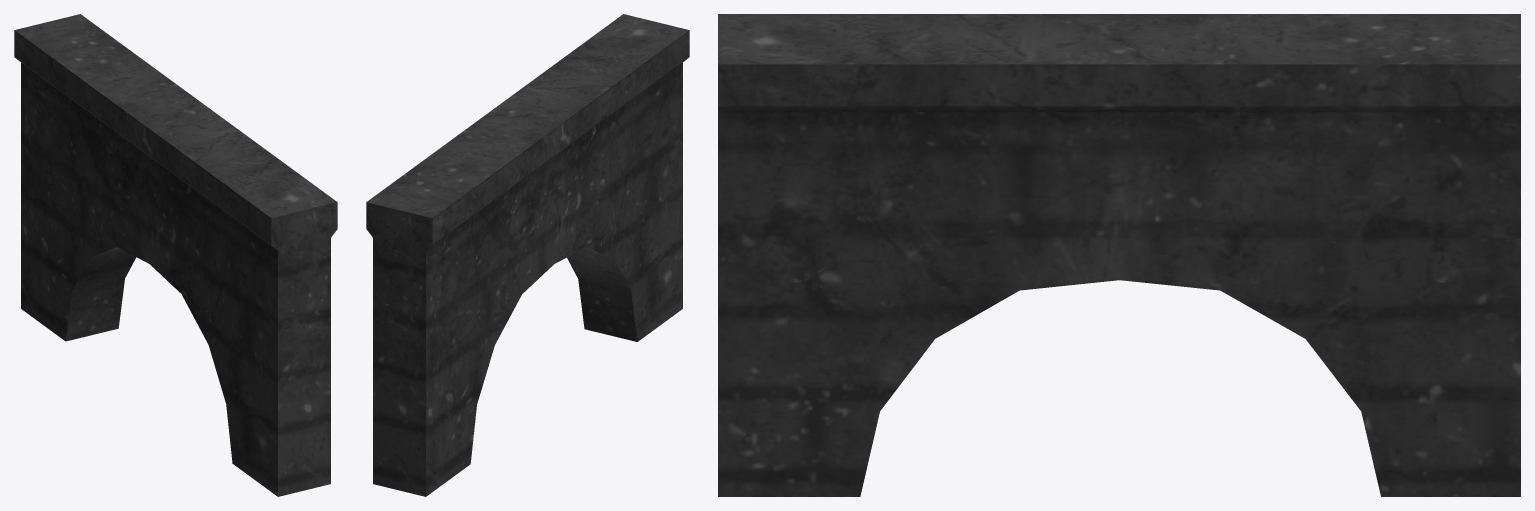
Rendered from Half_wall.fbx.
The picture shows the model from 3 angles, left to right: view 1: azimuth 30°, elevation 25°; view 2: azimuth 150°, elevation 25°; view 3: azimuth 270°, elevation 25°; orthographic projection. The views are drawn at different scales.
Visible parts, largest first — view 1: Half Tunnel; view 2: Half Tunnel; view 3: Half Tunnel.
Part boxes in pixels (x1=…): Half Tunnel: x1=14, y1=14, x2=337, y2=496; Half Tunnel: x1=366, y1=14, x2=689, y2=496; Half Tunnel: x1=718, y1=14, x2=1520, y2=496.
Size of the model in its own units: 53.26 by 216 by 359.
1 material, 1 textured.
